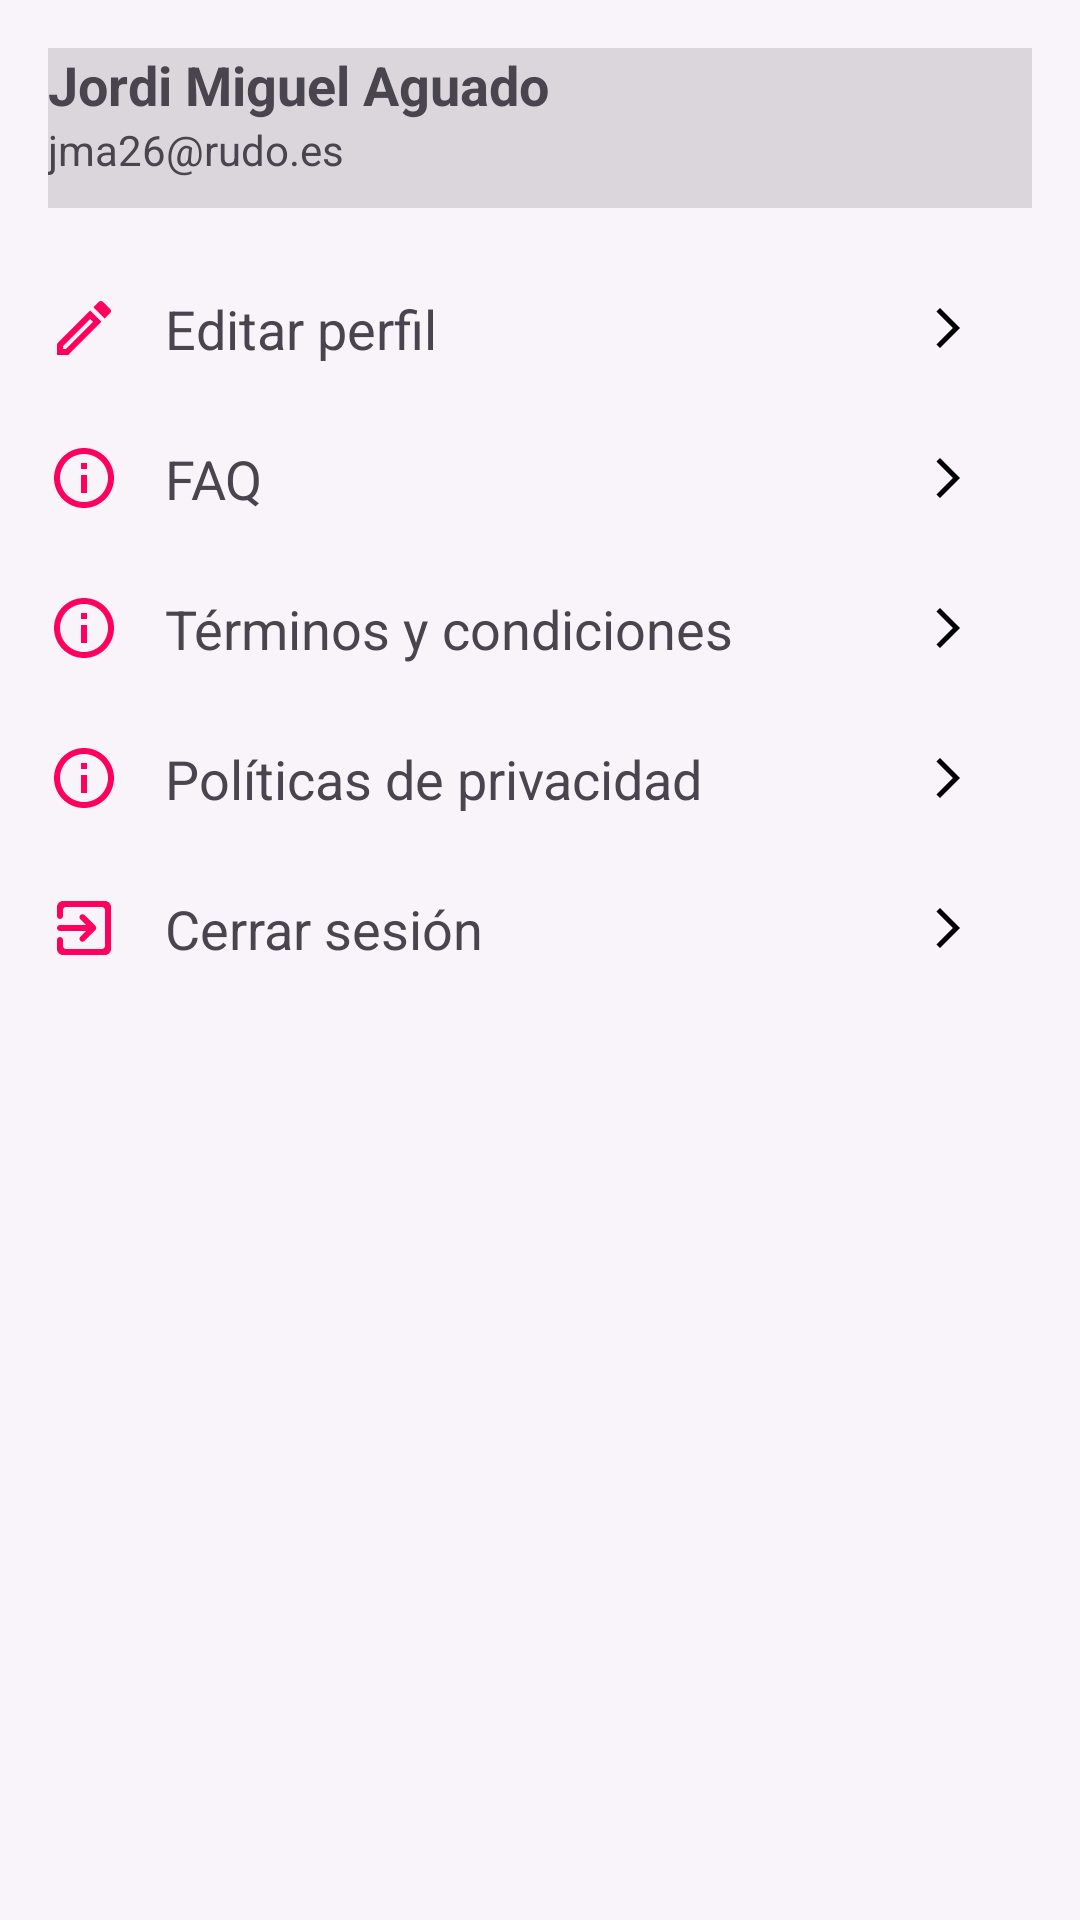

Screen size 1080px x 1920px. Icon name, then its box in pixels as (x1, y1, x2, y2):
arrow forward: (936, 308, 960, 348), (936, 458, 960, 498), (936, 608, 960, 648), (936, 758, 960, 798), (936, 908, 960, 948)
exit: (57, 901, 111, 955)
info: (54, 448, 114, 508), (54, 598, 114, 658), (54, 748, 114, 808)
